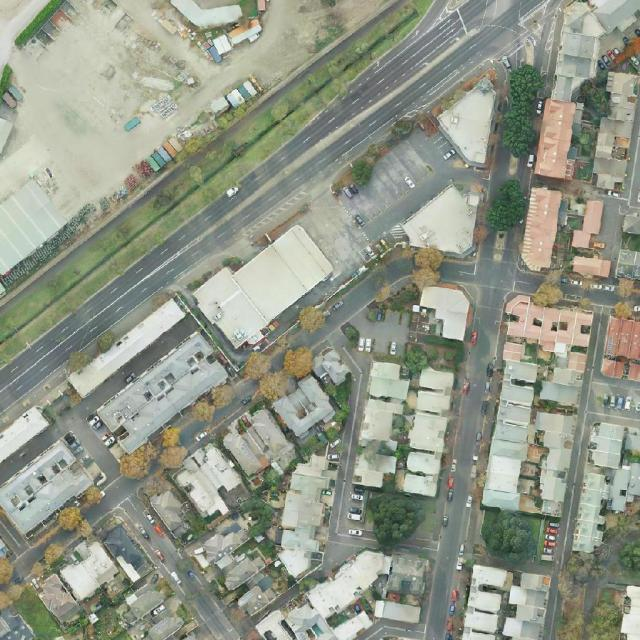building: (482, 294, 594, 518), (189, 212, 339, 357), (93, 329, 233, 456), (253, 541, 417, 640), (521, 0, 636, 111), (66, 297, 187, 399), (188, 511, 293, 623), (432, 76, 529, 172), (272, 451, 341, 584), (397, 182, 491, 275), (215, 400, 303, 491), (351, 360, 412, 491), (397, 366, 456, 498), (590, 70, 640, 192), (168, 444, 236, 525), (51, 534, 123, 605), (271, 372, 338, 439), (532, 99, 578, 180), (520, 187, 562, 273), (414, 283, 472, 341), (33, 572, 87, 630), (195, 440, 244, 497), (358, 600, 425, 639), (169, 0, 244, 32), (123, 579, 167, 620), (313, 344, 354, 387), (620, 585, 640, 639), (600, 388, 640, 413), (576, 200, 602, 236), (572, 257, 612, 278), (572, 239, 589, 247)
greenland: (335, 108, 418, 199), (499, 62, 545, 158), (545, 544, 610, 608), (478, 508, 542, 565), (369, 490, 428, 548), (481, 174, 534, 238), (238, 487, 286, 557), (402, 333, 464, 378), (54, 483, 107, 533), (188, 379, 240, 428), (114, 440, 166, 486), (321, 374, 354, 444), (254, 365, 297, 407), (411, 245, 445, 293), (529, 278, 566, 314), (282, 345, 315, 380), (242, 349, 273, 382), (296, 433, 328, 462), (297, 305, 327, 333), (159, 446, 188, 469), (617, 277, 634, 299), (0, 558, 14, 584), (330, 445, 345, 457)
metalled_road: (552, 305, 615, 577), (322, 368, 388, 574), (78, 313, 201, 417), (361, 152, 461, 251), (58, 396, 133, 482), (461, 234, 525, 320), (7, 523, 82, 581), (317, 273, 383, 334), (79, 469, 141, 526), (486, 144, 538, 203), (405, 118, 458, 174), (591, 196, 627, 268), (557, 274, 620, 314), (364, 247, 419, 292), (217, 380, 261, 428), (166, 411, 209, 454), (437, 249, 485, 285), (0, 509, 31, 558), (451, 163, 490, 192), (543, 588, 560, 640), (292, 327, 327, 350), (512, 270, 544, 295), (341, 345, 365, 376), (506, 562, 554, 574)
